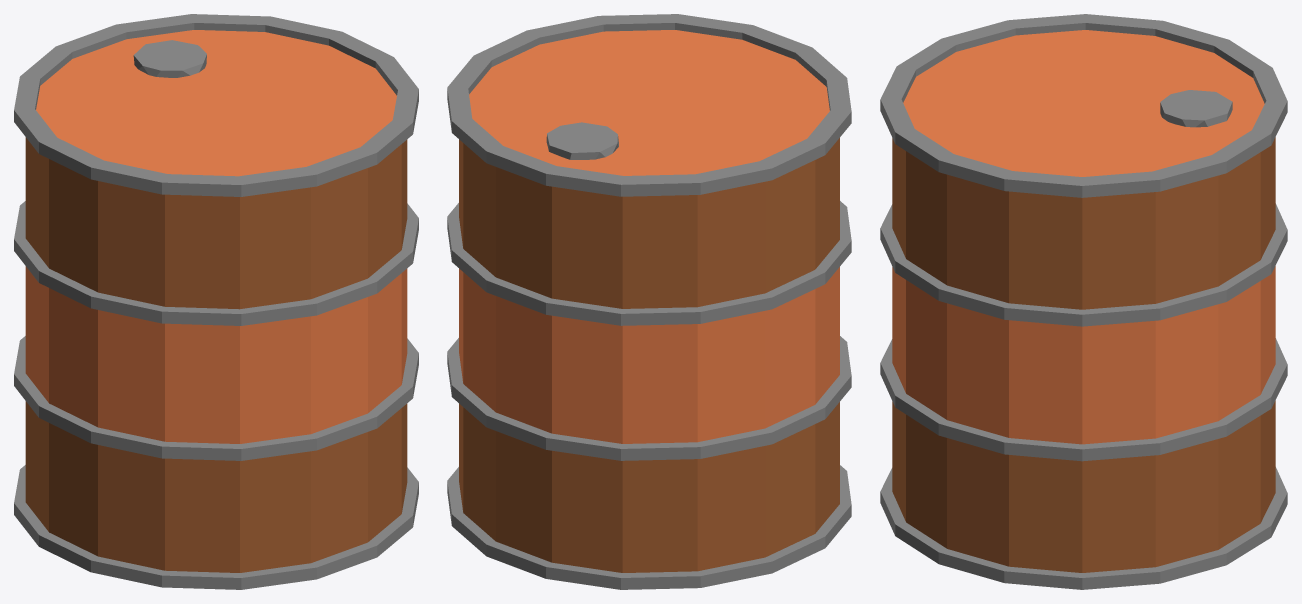
The model's file is Barrel_1_2.fbx.
3 views of the same model, side by side, from view 1: azimuth 30°, elevation 25°; view 2: azimuth 150°, elevation 25°; view 3: azimuth 270°, elevation 25° (orthographic).
Parts seen in each view (by area): view 1: Barrel_1_2; view 2: Barrel_1_2; view 3: Barrel_1_2.
Part boxes in pixels (bbox=[...]): Barrel_1_2: bbox=[14, 14, 418, 589]; Barrel_1_2: bbox=[447, 14, 851, 589]; Barrel_1_2: bbox=[880, 14, 1287, 589].
Bounding box in the file's own units: 78.54 × 86 × 78.54.
